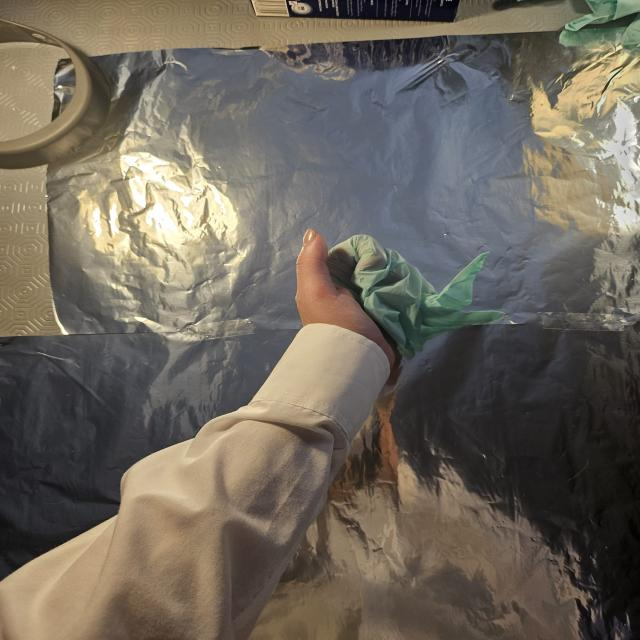glove_partial: (293, 228, 505, 370)
